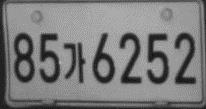2: (173, 31, 197, 84), (118, 32, 142, 83)
5: (146, 32, 169, 84), (38, 32, 60, 82)
6: (91, 31, 115, 83)
8: (12, 32, 34, 82)
가: (62, 41, 86, 84)
